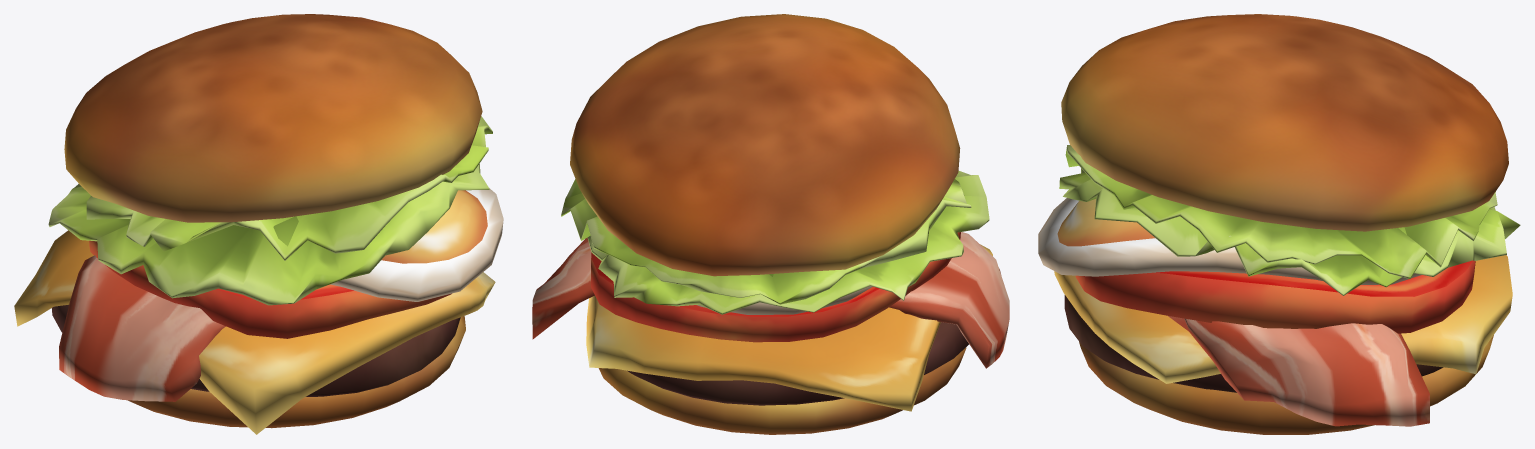
File: hamburger.fbx
3 renders of one model, left to right at view 1: azimuth 30°, elevation 25°; view 2: azimuth 150°, elevation 25°; view 3: azimuth 270°, elevation 25°, orthographic. The views are drawn at different scales.
Visible parts, largest first — view 1: hamburger; view 2: hamburger; view 3: hamburger.
Boxes of the visible parts, x1=… form: hamburger: x1=14, y1=14, x2=503, y2=434; hamburger: x1=532, y1=14, x2=1009, y2=434; hamburger: x1=1038, y1=14, x2=1520, y2=434.
Size of the model in its own units: 0.2321 by 0.1687 by 0.2181.
